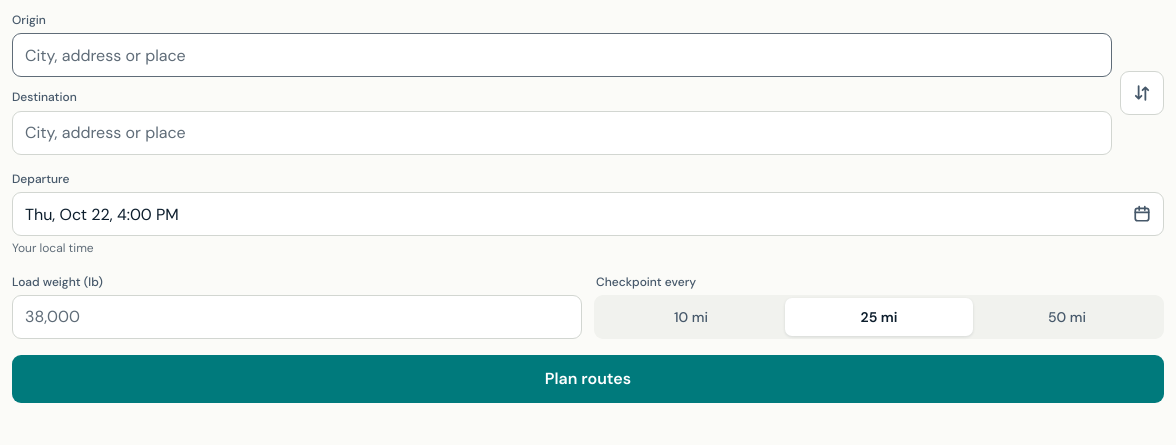
Scenario: TripForm › shows the API's field messages on the matching fields
Type "Seattle, WA" into the dropdown labelled "Origin". click: (562, 55)
box: [12,33,1112,77]
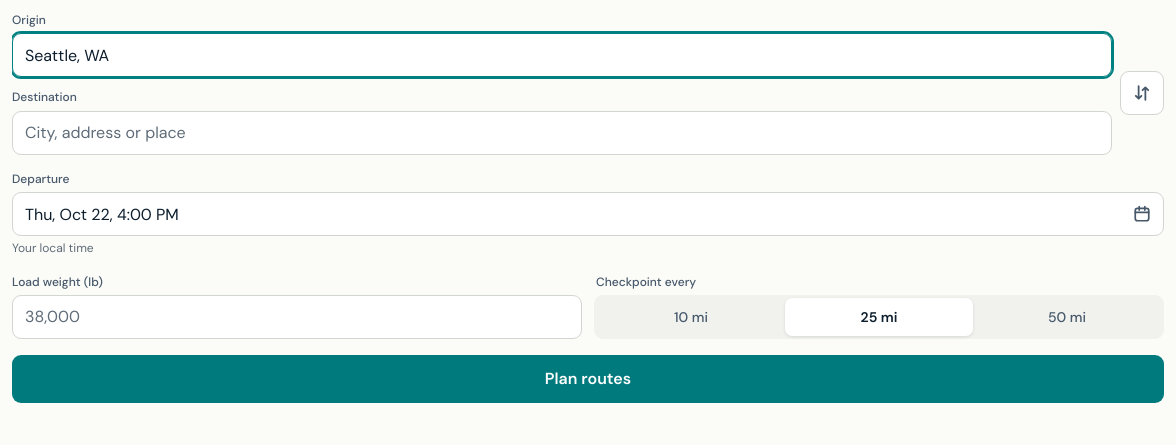
Type "Salt Lake City, UT" into the dropdown labelled "Destination". click: (562, 133)
box: [12,111,1112,155]
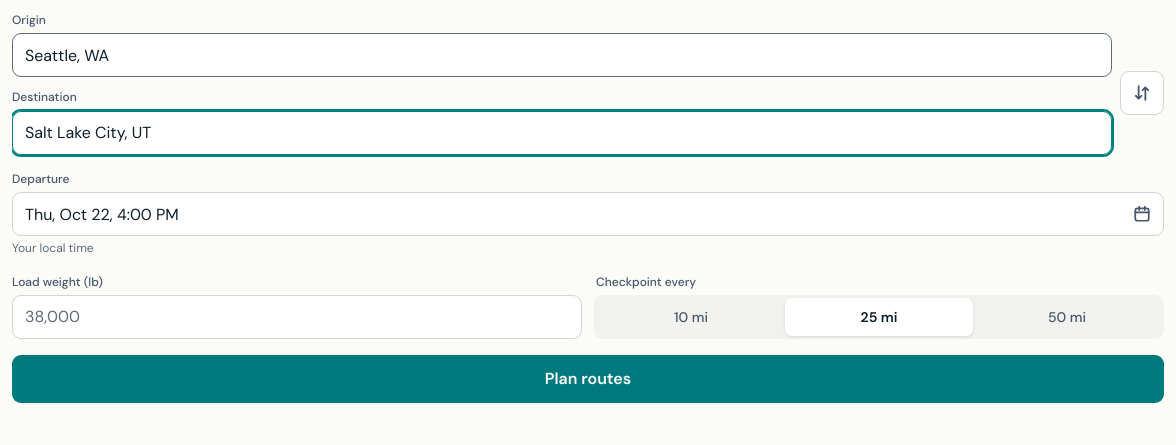
Type "42,000" into the field labelled "Load weight (lb)". click: (297, 317)
box: [12,295,582,339]
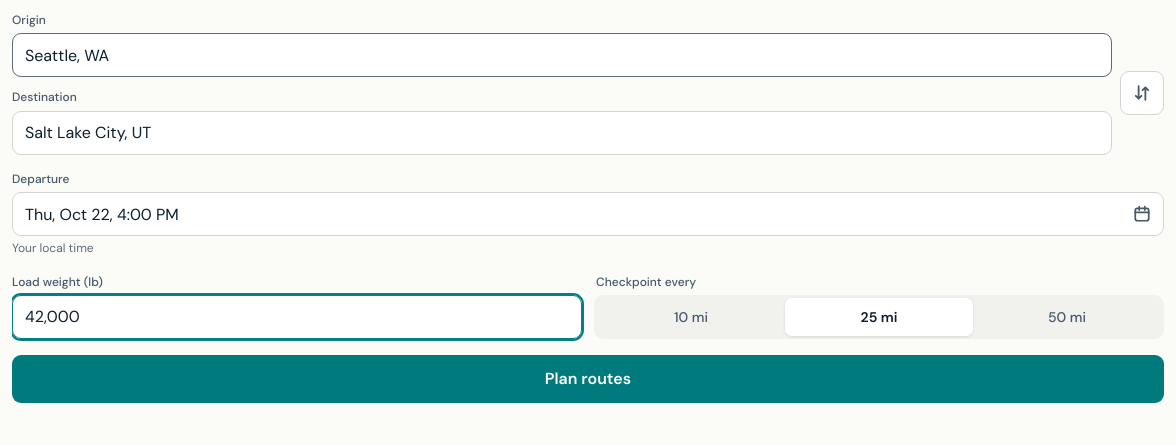
Click the button "Plan routes". click: click(588, 379)
box: [12,355,1164,403]
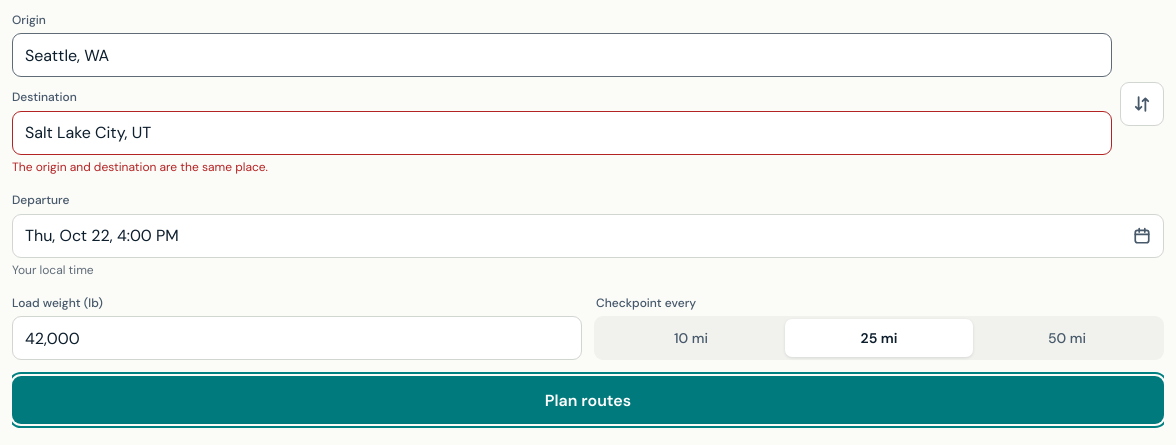
Check: the text "The origin and destination are the same place." is shown, box [12,159,268,175]
